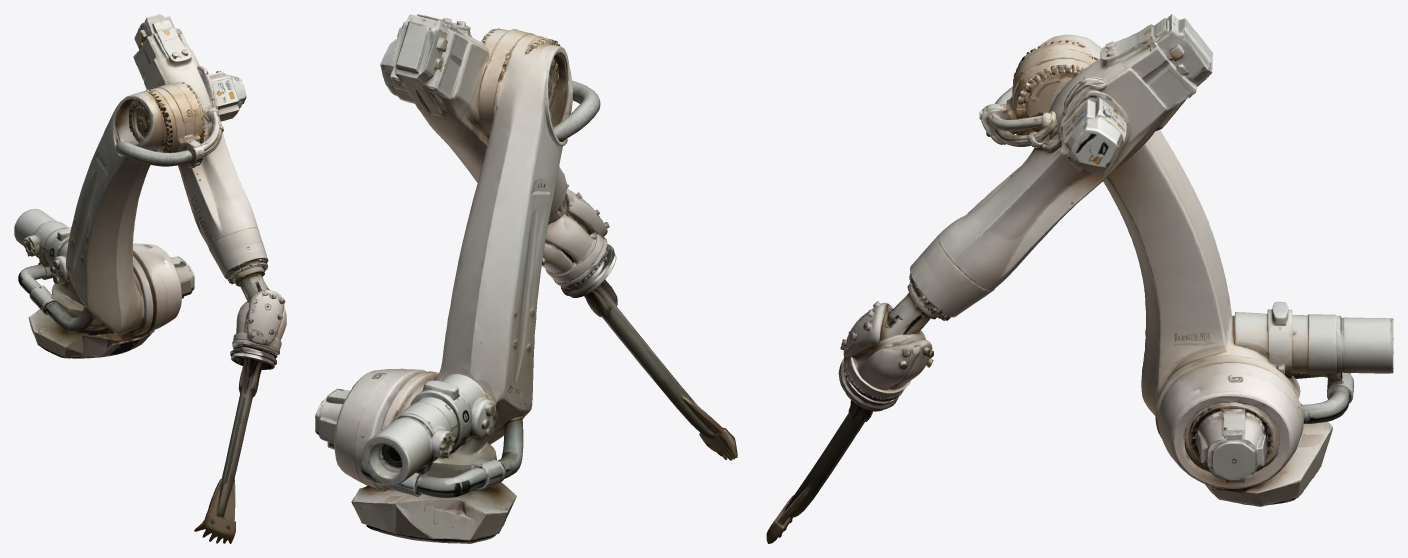
Rendered from technology-02.glb.
The picture shows the model from 3 angles, left to right: view 1: azimuth 30°, elevation 25°; view 2: azimuth 150°, elevation 25°; view 3: azimuth 270°, elevation 25°; orthographic projection. The views are drawn at different scales.
Size of the model in its own units: 0.4894 by 1.28 by 1.27.
Materials: 1 (1 with a texture image).
